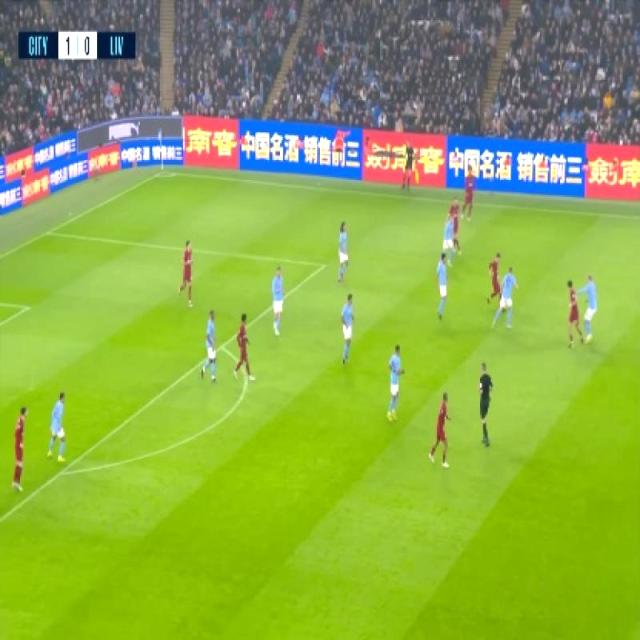bigarea_top_inner: (314, 252, 332, 278)
bigarea_top_outter: (37, 220, 57, 243)
bottom_arc_area_intersection: (48, 457, 77, 485)
corner: (152, 163, 174, 180)
smallarea_top_inner: (15, 295, 37, 320)
top_arc_area_intersection: (211, 334, 229, 356)
